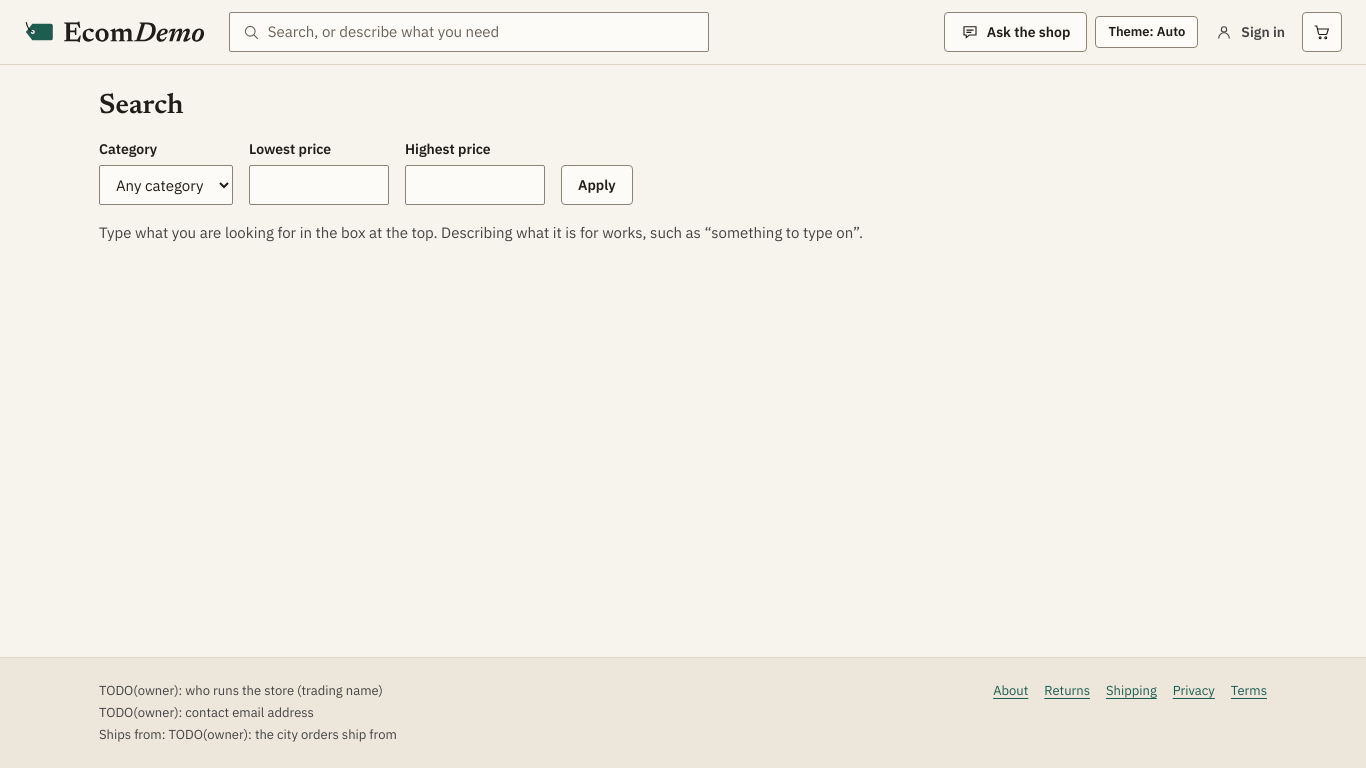
Test case: layout › the footer link "Returns" opens the Returns page
Expected: the heading "Search" is shown, left=99, top=92, right=184, bottom=120
Click the link "Returns" at x=1067, y=690, box left=1044, top=682, right=1090, bottom=699
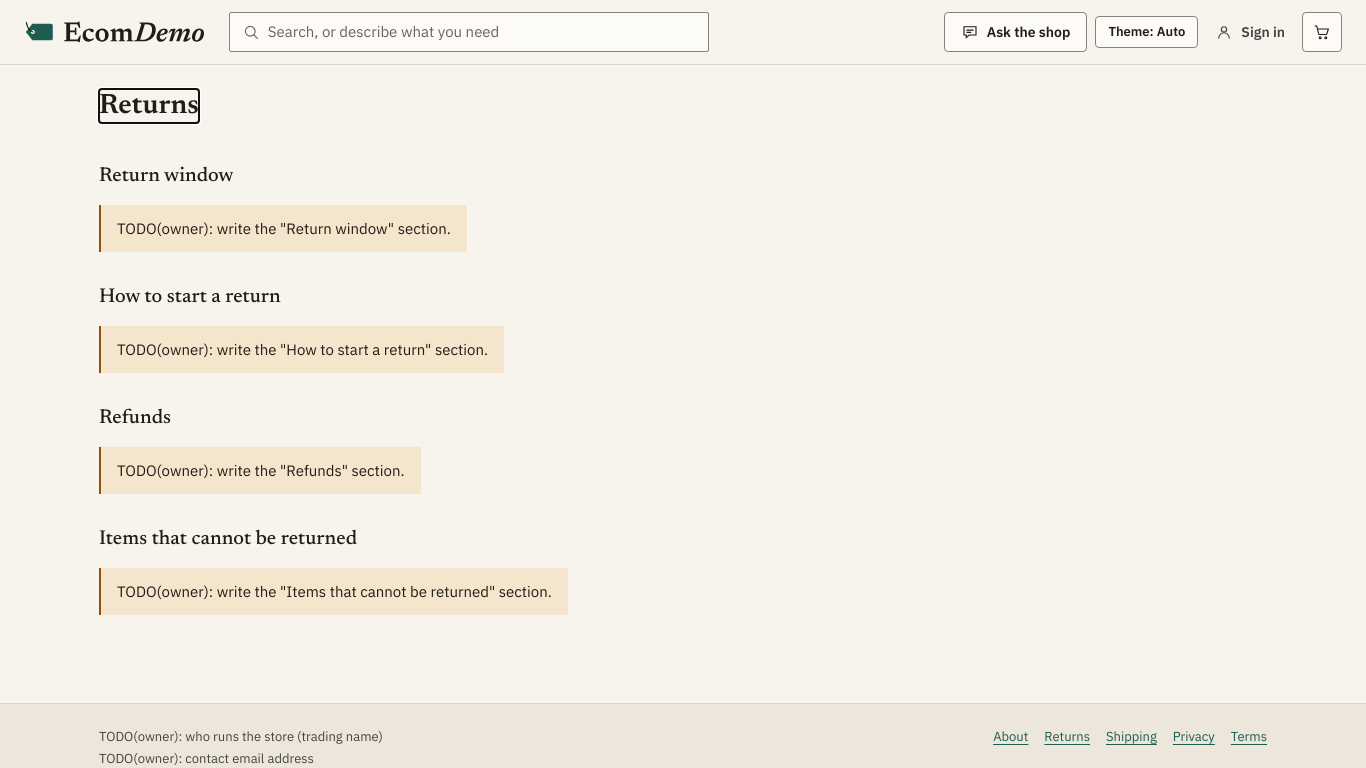
Expected: the heading "Returns" is shown, left=99, top=89, right=199, bottom=123
